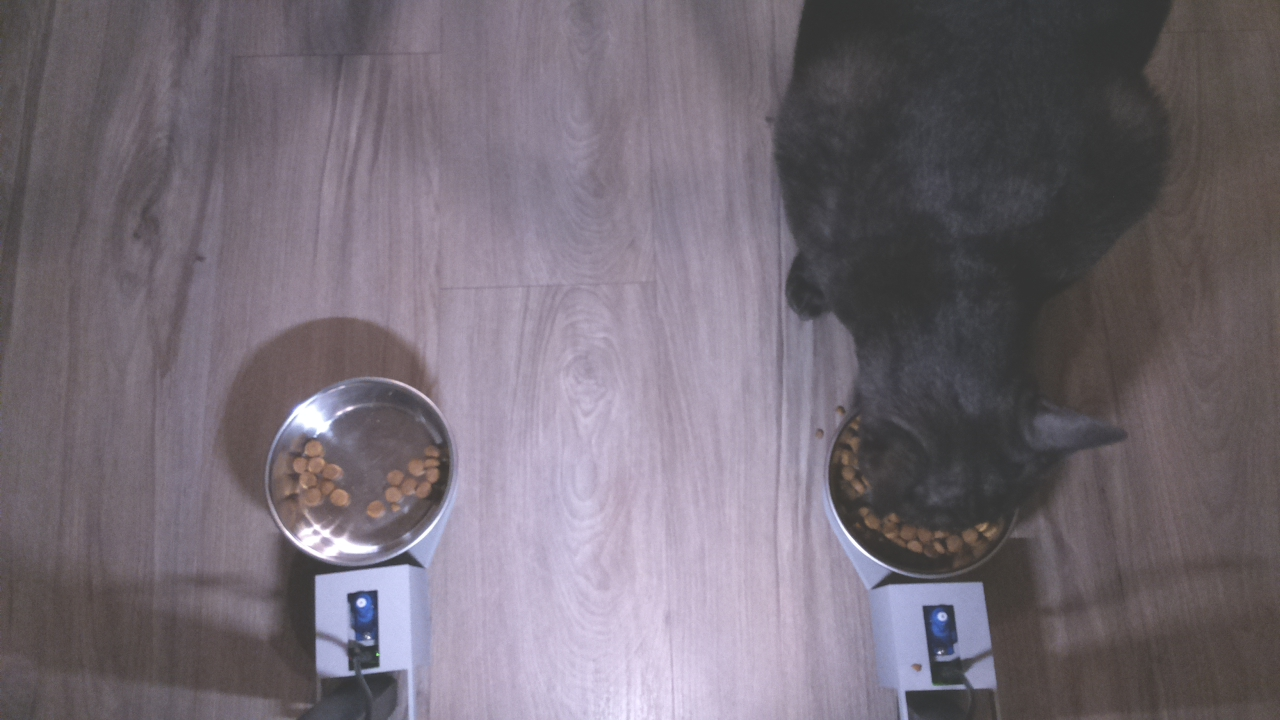open_bowl: (264, 370, 456, 571)
saki_eating: (819, 269, 1143, 589)
